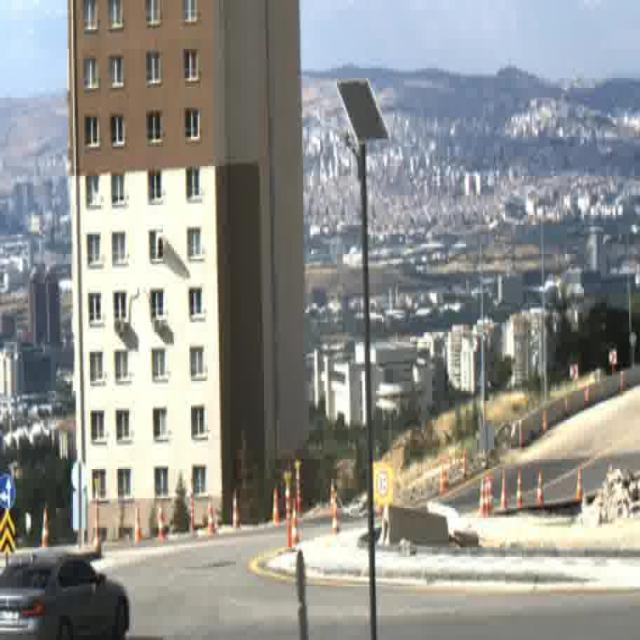Car: (0, 544, 131, 640)
